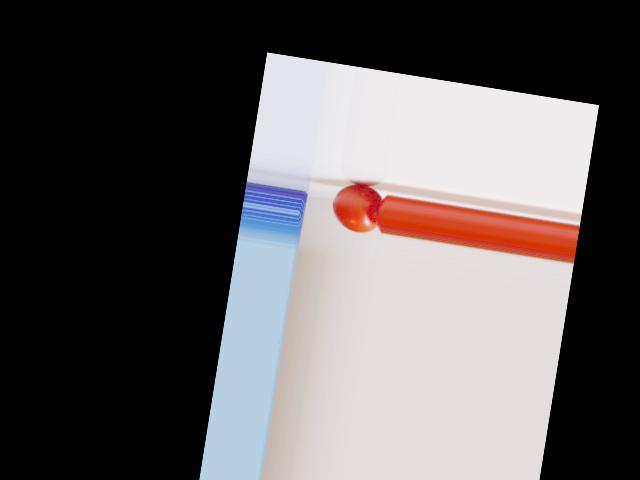tomato: (329, 180, 383, 235)
